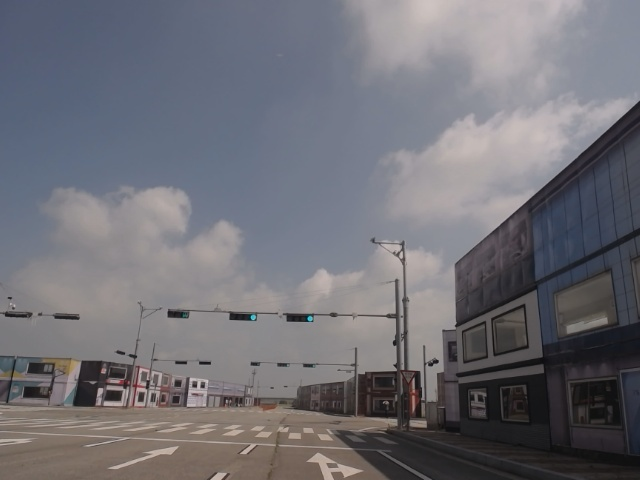straight_green_4: (286, 313, 313, 323), (230, 313, 259, 322)
